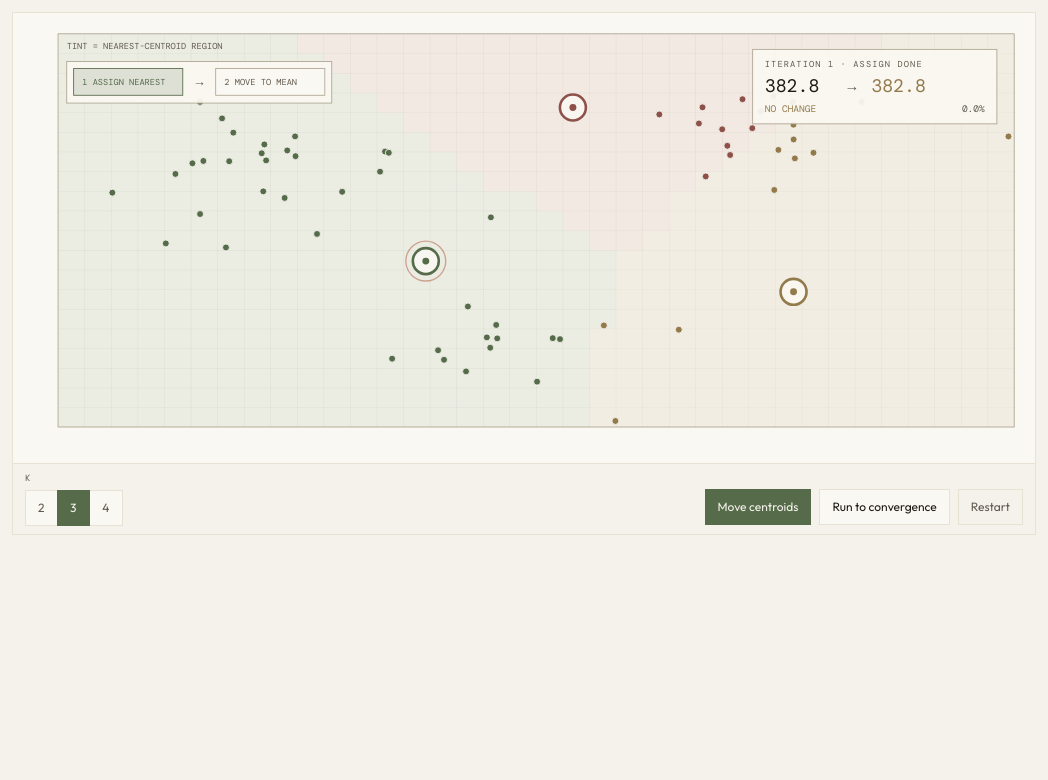
Test: KMeansScene › resets the run when the k selector changes
The width and height of the screenshot is (1048, 780).
Click the button "2" at (41, 508), box [25,490,58,526]
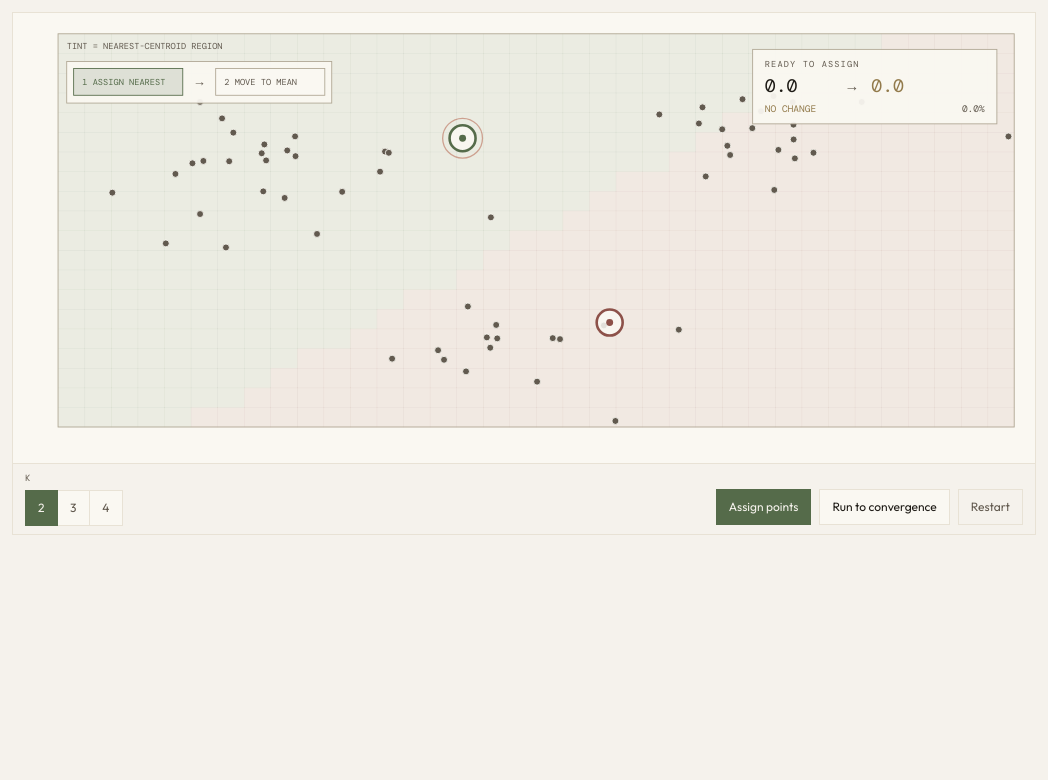
Expected: the button "Assign points" is shown, [716,489,811,525]
